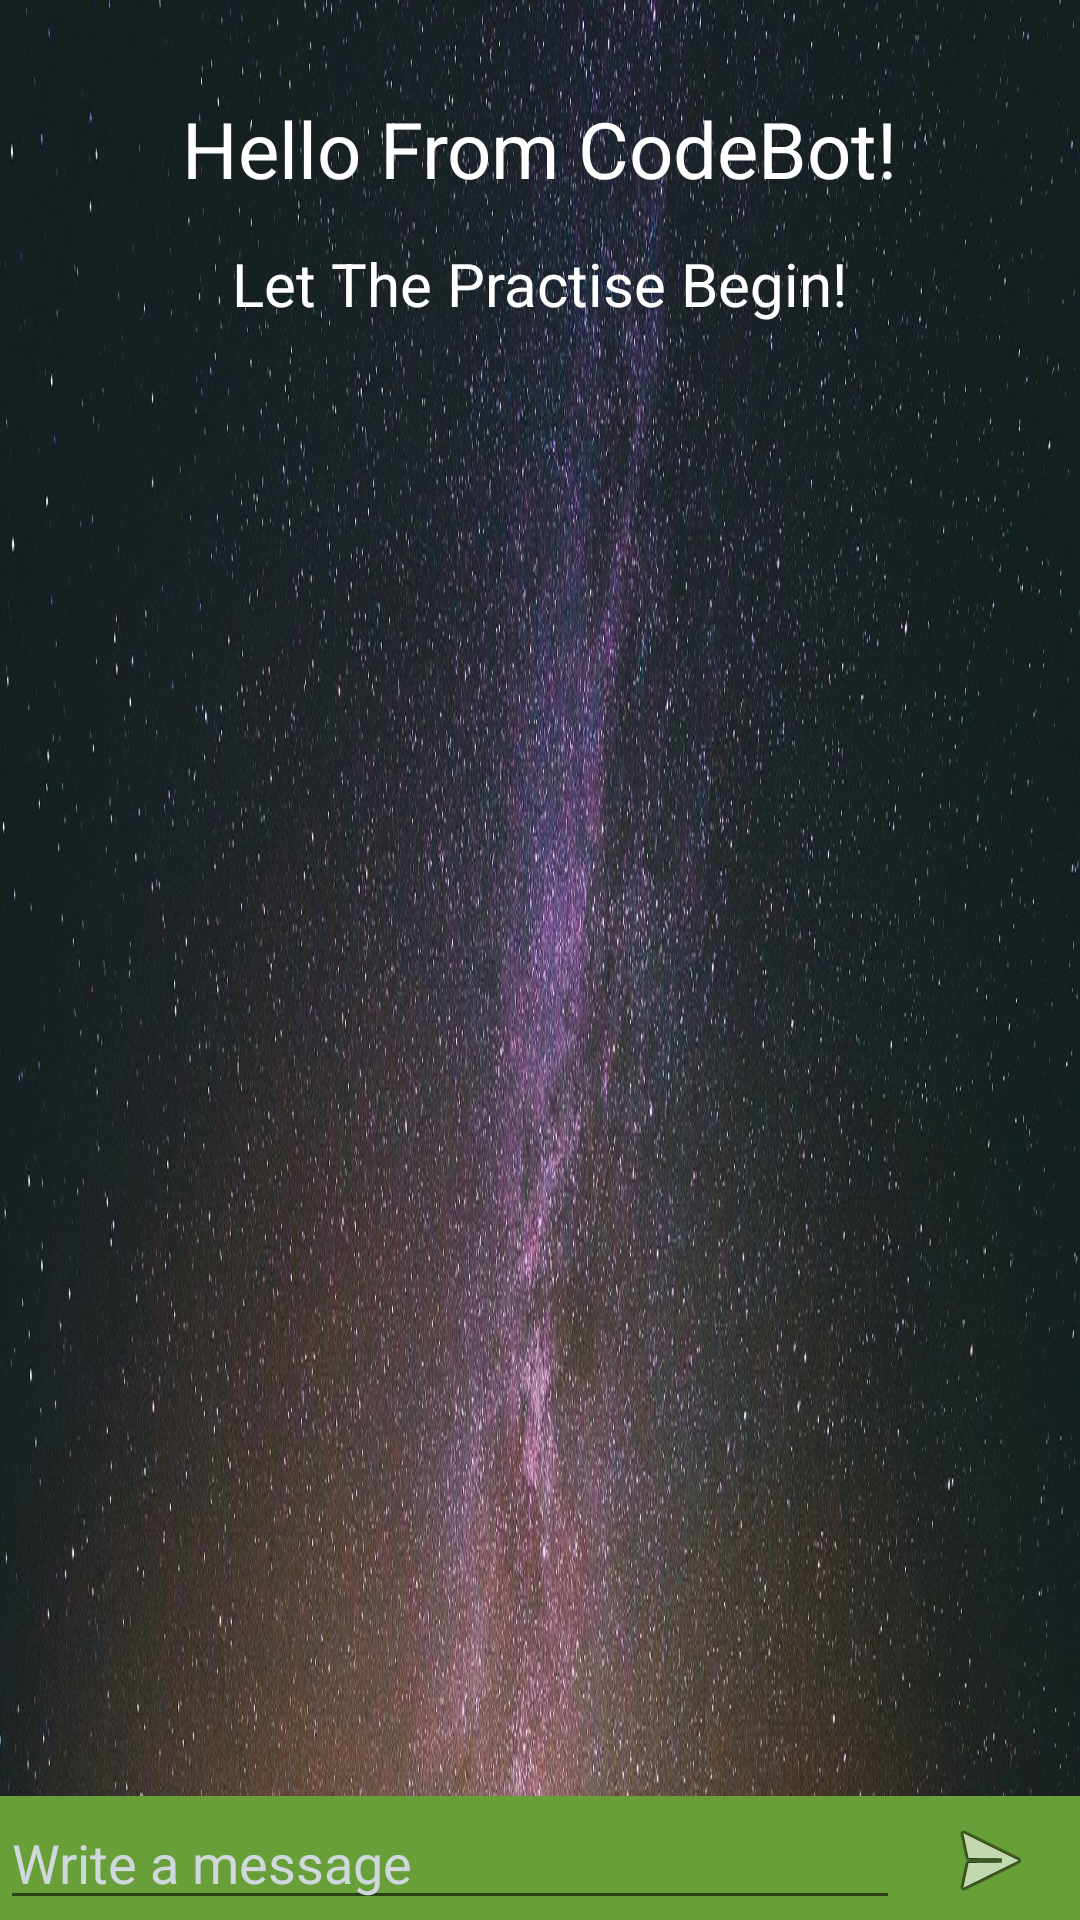

Where to tap for icons on this 1080px×1920px app screen, as (x,y):
send: (990,1860)
